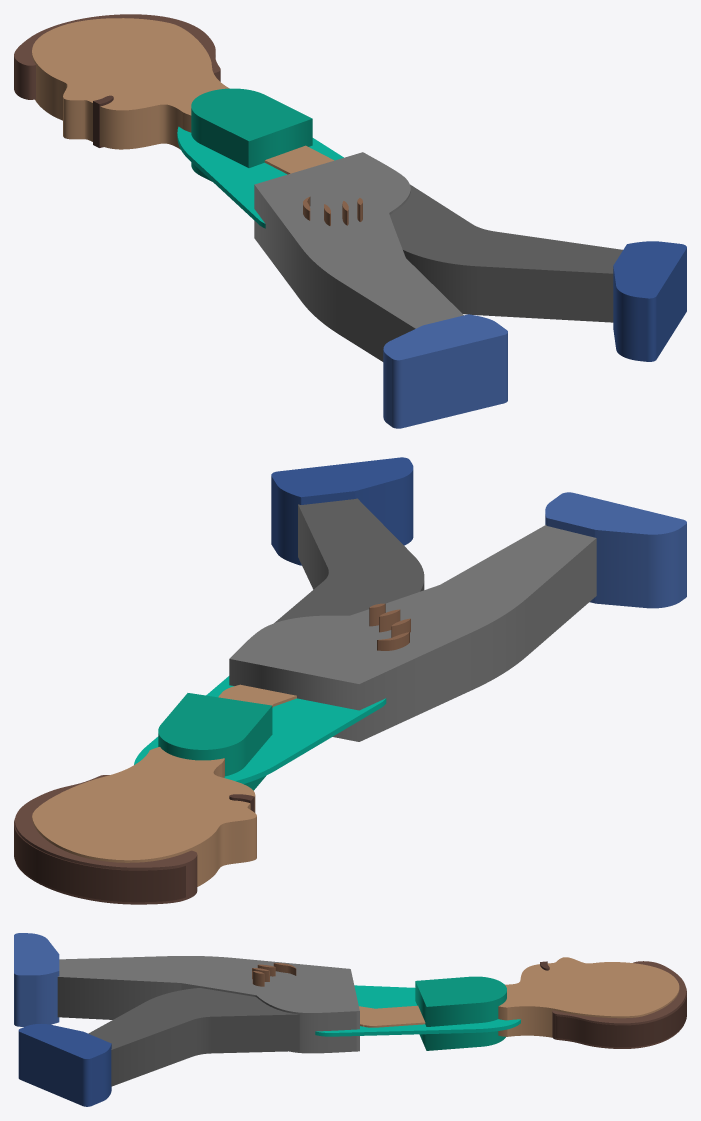
Rendered from emoji_u1f6b6_1f3fd_200d_2642.glb.
The picture shows the model from 3 angles, top to bottom: view 1: azimuth 30°, elevation 25°; view 2: azimuth 150°, elevation 25°; view 3: azimuth 270°, elevation 25°; orthographic projection. The views are drawn at different scales.
Parts seen in each view (by area): view 1: emoji_u1f6b6_1f3fd_200d_2642; view 2: emoji_u1f6b6_1f3fd_200d_2642; view 3: emoji_u1f6b6_1f3fd_200d_2642.
Boxes of the visible parts, x1,y1,x2,y2 form: emoji_u1f6b6_1f3fd_200d_2642: (14, 14, 686, 428); emoji_u1f6b6_1f3fd_200d_2642: (14, 457, 686, 904); emoji_u1f6b6_1f3fd_200d_2642: (14, 933, 686, 1106).
Size of the model in its own units: 0.0145 by 0.0036 by 0.0332.
